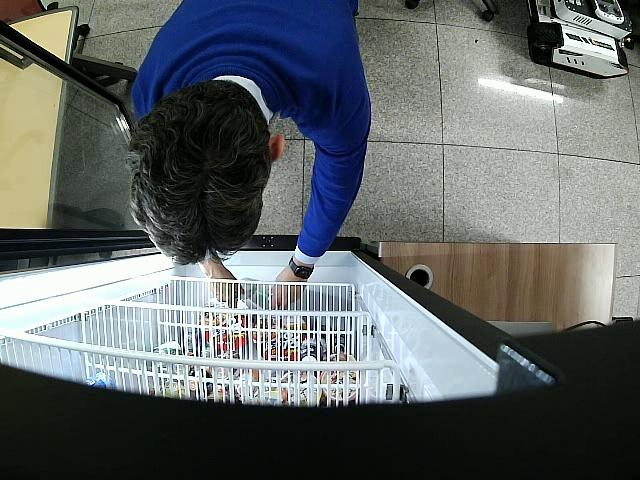00_hand: (202, 267, 244, 307), (271, 276, 306, 308)
